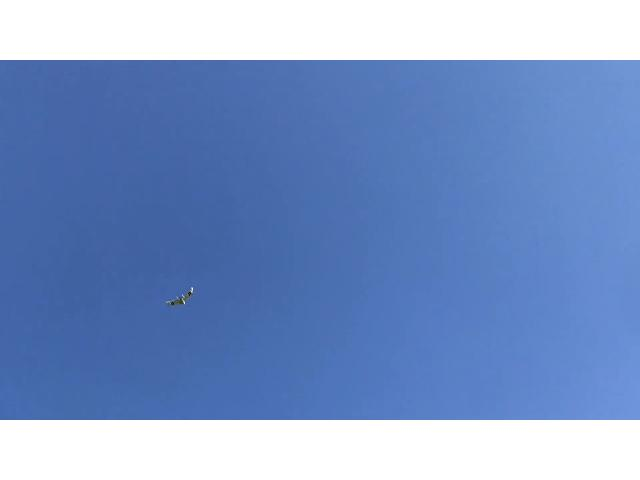Anti-Drone: (140, 276, 218, 310)
